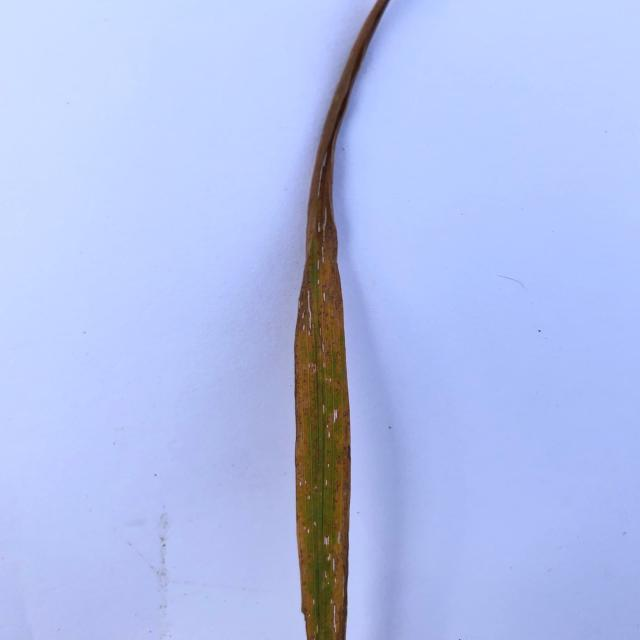Rice Tungro: (292, 226, 352, 640)
